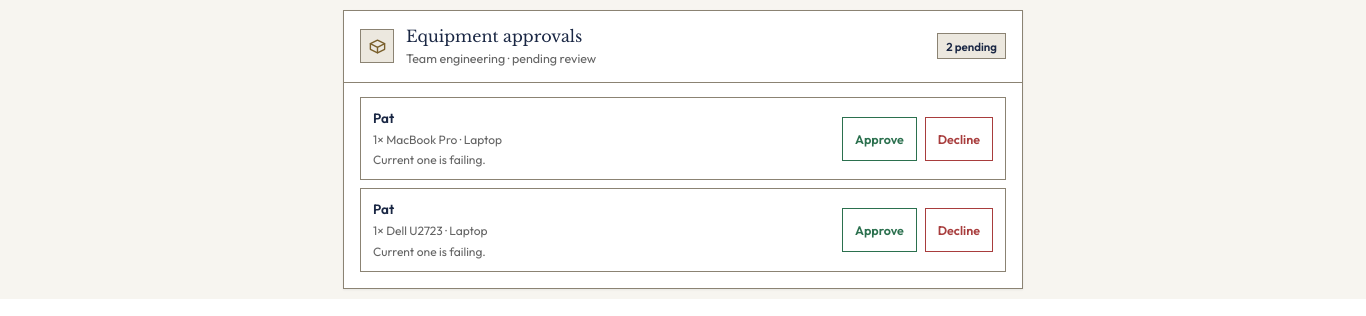
removes a row once its decision succeeds
Check: the number of list items is 2, box [360,97,1006,180]; [360,188,1006,272]
Click the button "Approve" in the row of "1× MacBook Pro · Laptop": (879, 138) [842,116,917,160]
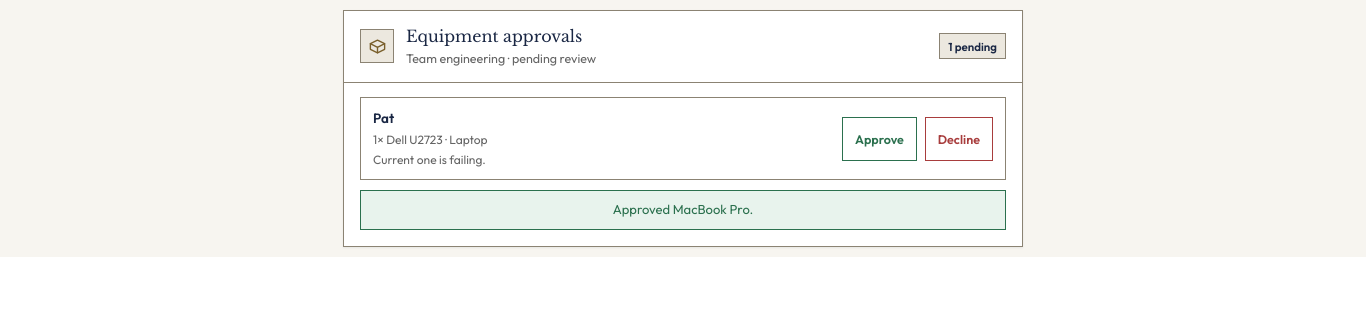
Check: the list shows "Dell U2723", box [373,132,488,147]
Check: the number of list items is 1, box [360,97,1006,180]
Check: the text "Approved MacBook Pro." is shown, box [613,200,753,220]
